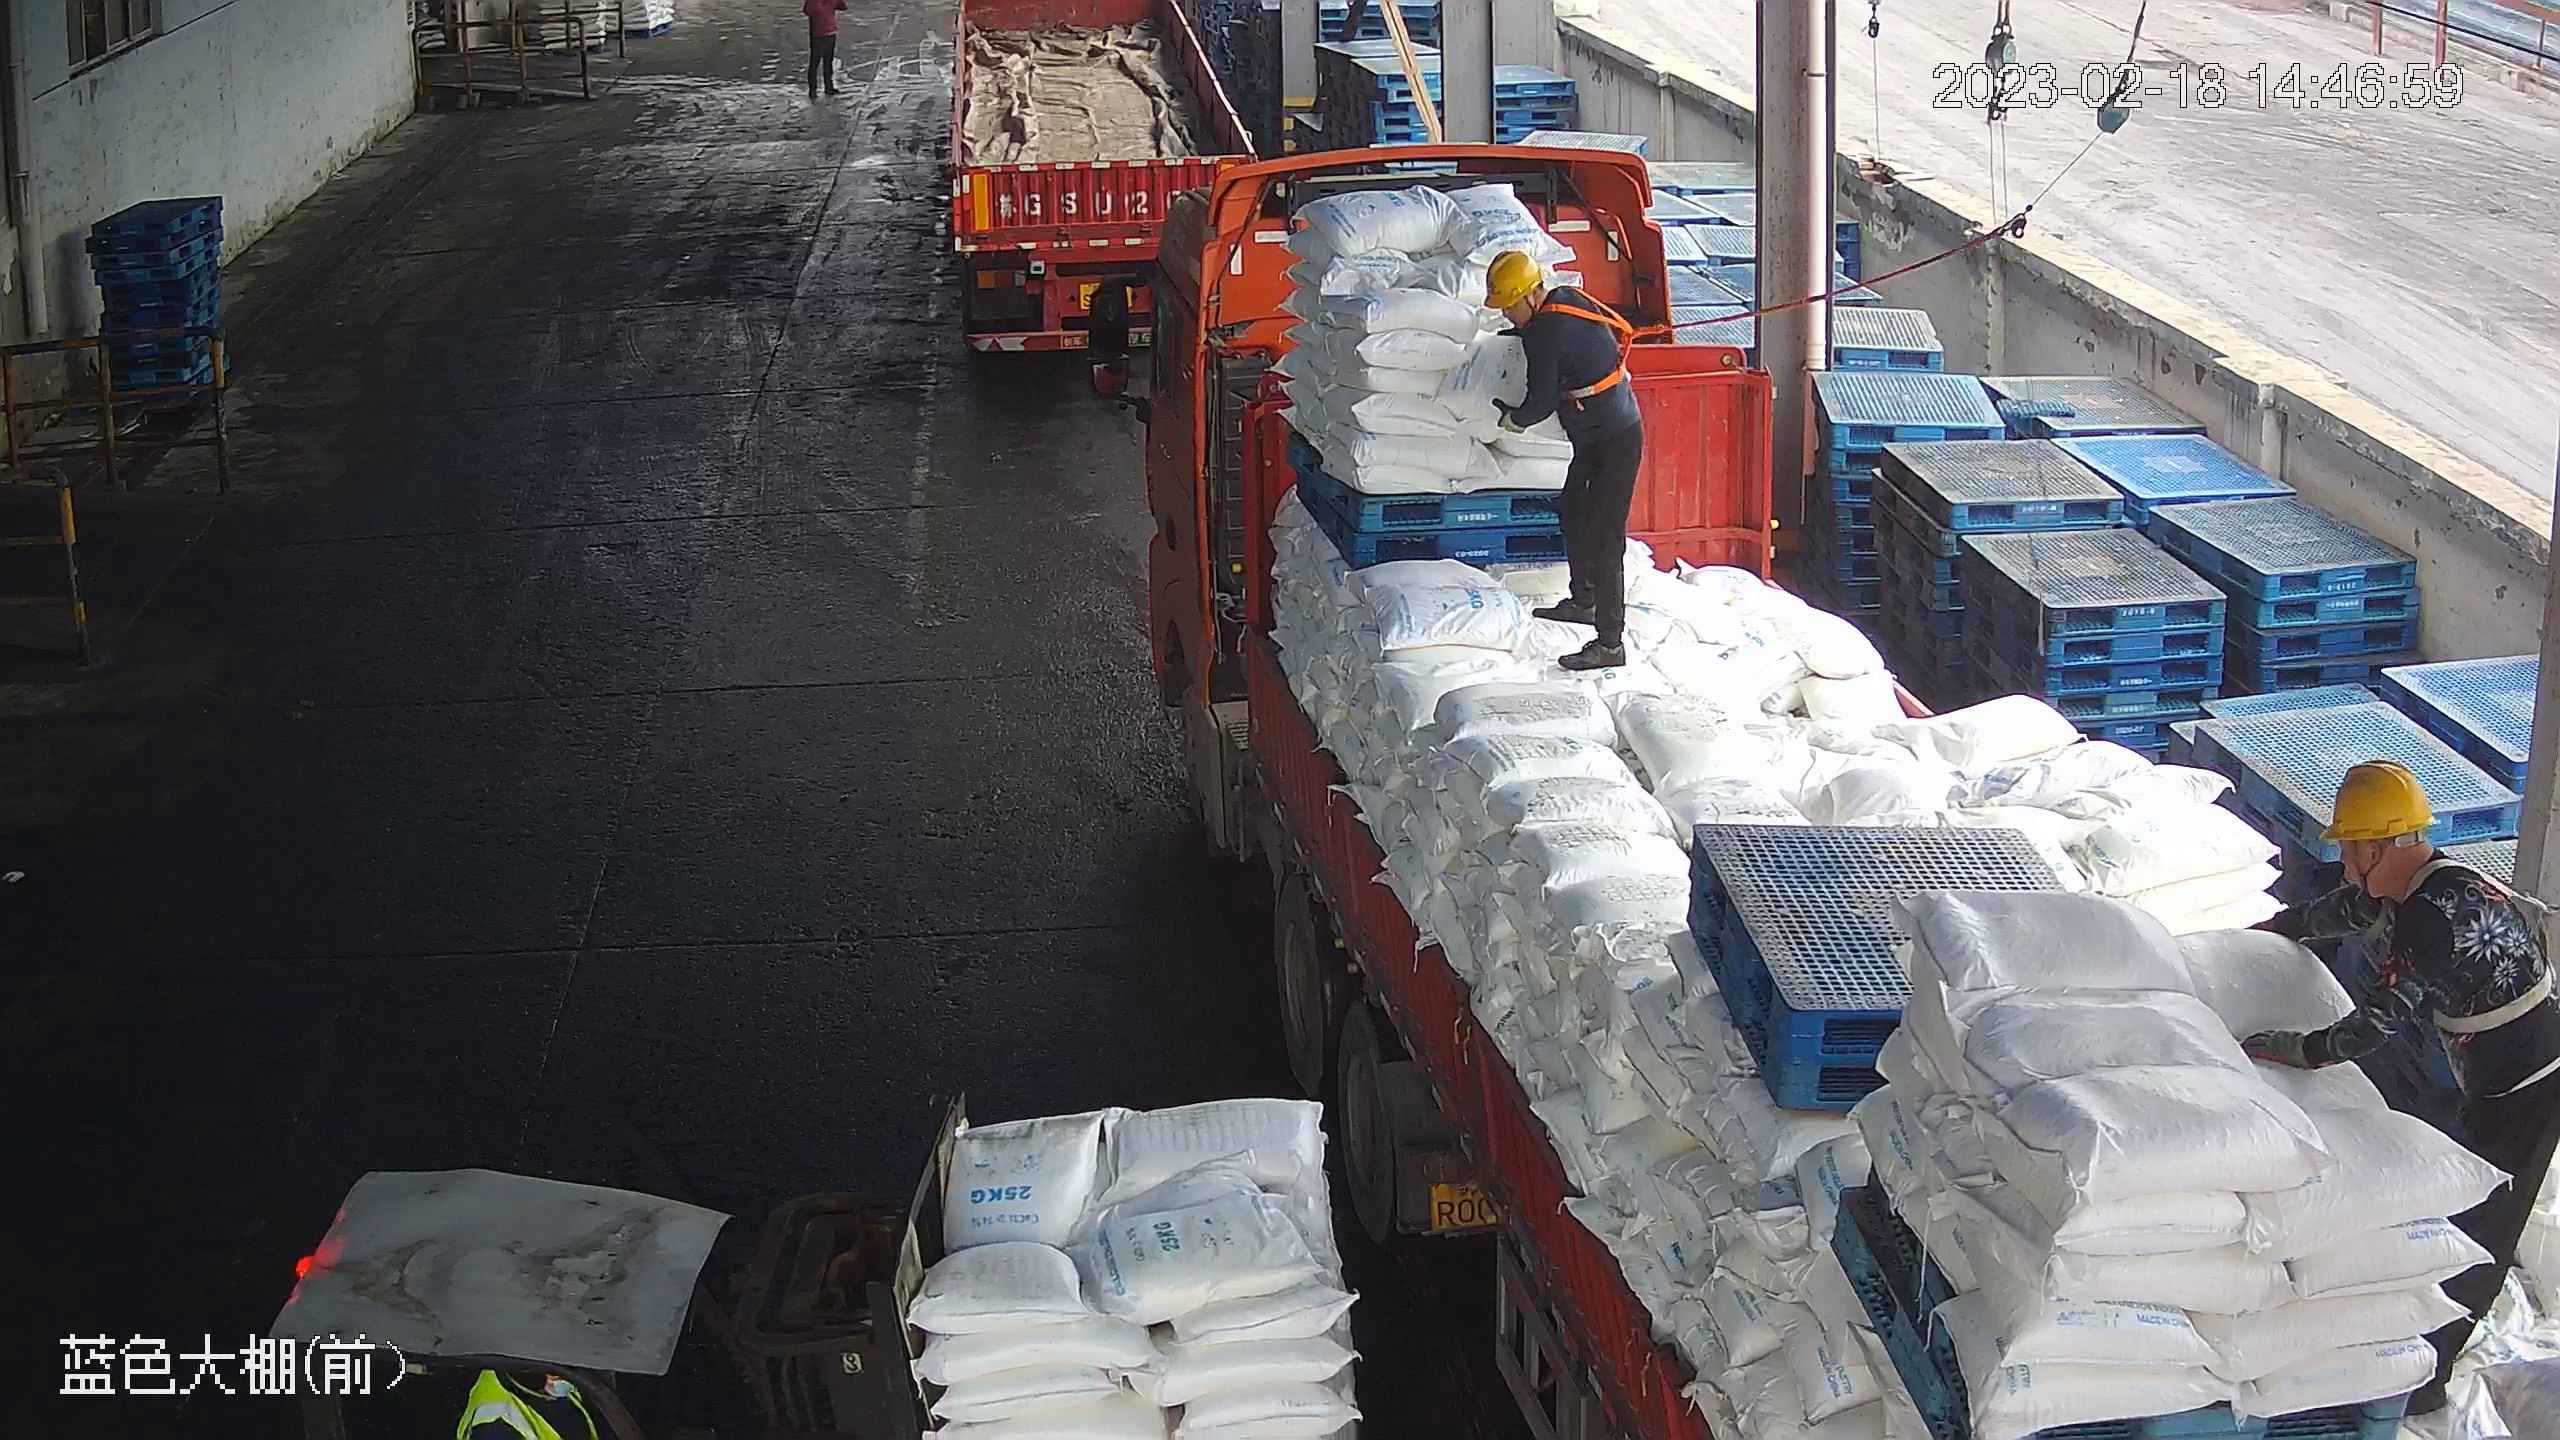belt: (2411, 862, 2560, 1035), (1542, 285, 1643, 404)
head: (2304, 758, 2505, 976), (1479, 248, 1614, 358)
helmet: (2319, 757, 2436, 844), (1481, 247, 1546, 311)
people: (2238, 759, 2560, 1433), (1480, 248, 1649, 669)
truck: (1081, 139, 2550, 1438), (945, 1, 1263, 357)
